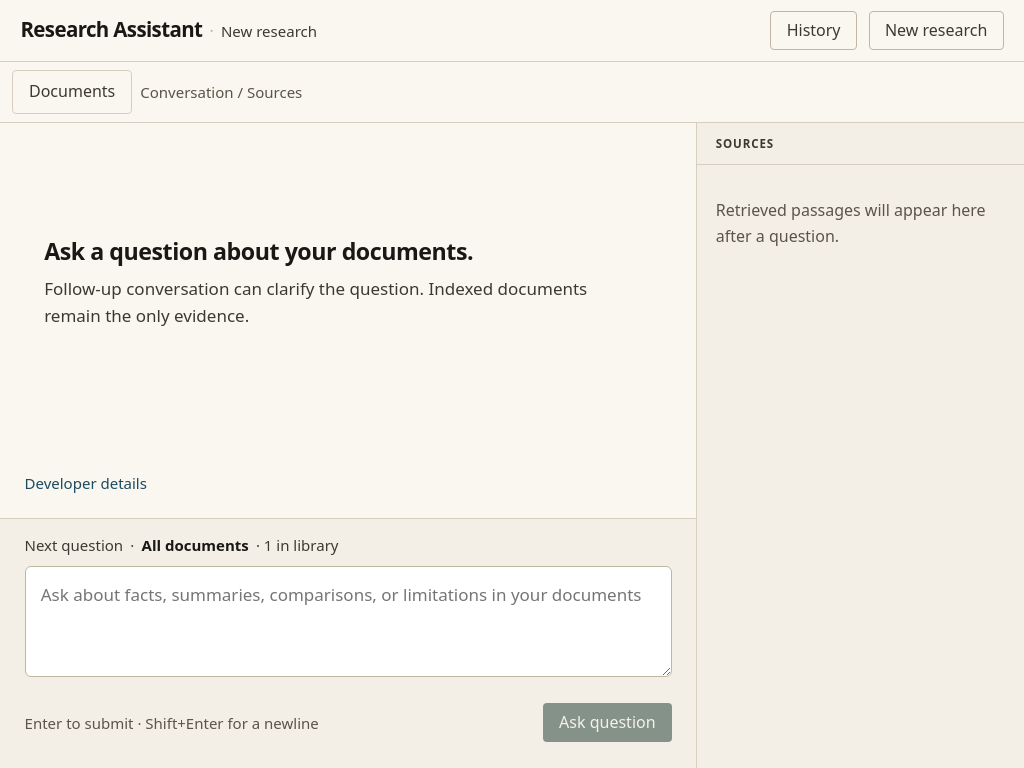
Test case: App › keeps developer details collapsed until requested
This screenshot has width=1024, height=768.
Expected: the field labelled "Retrieval mode" is not shown
Click the button "Developer details" at (86, 483), box 25,471 -> 147,495
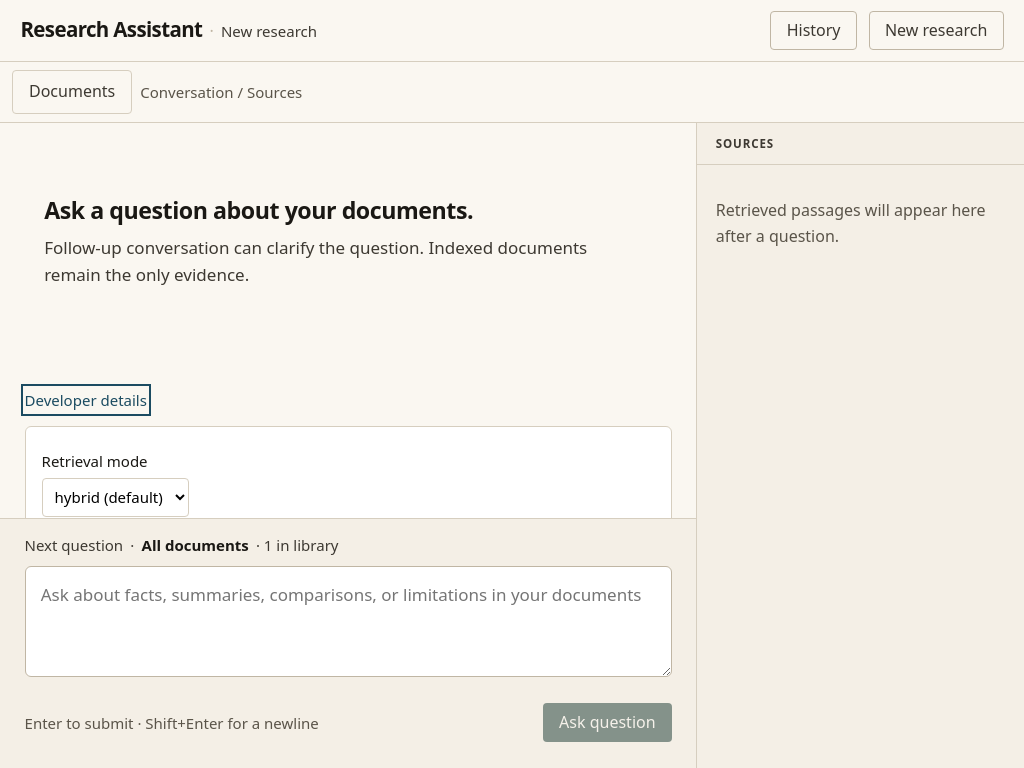
Expected: the dropdown labelled "Retrieval mode" is shown, 42,478 -> 189,516
Type "What is attention?" into the text box named "Research question" at (348, 622), box 25,566 -> 672,677
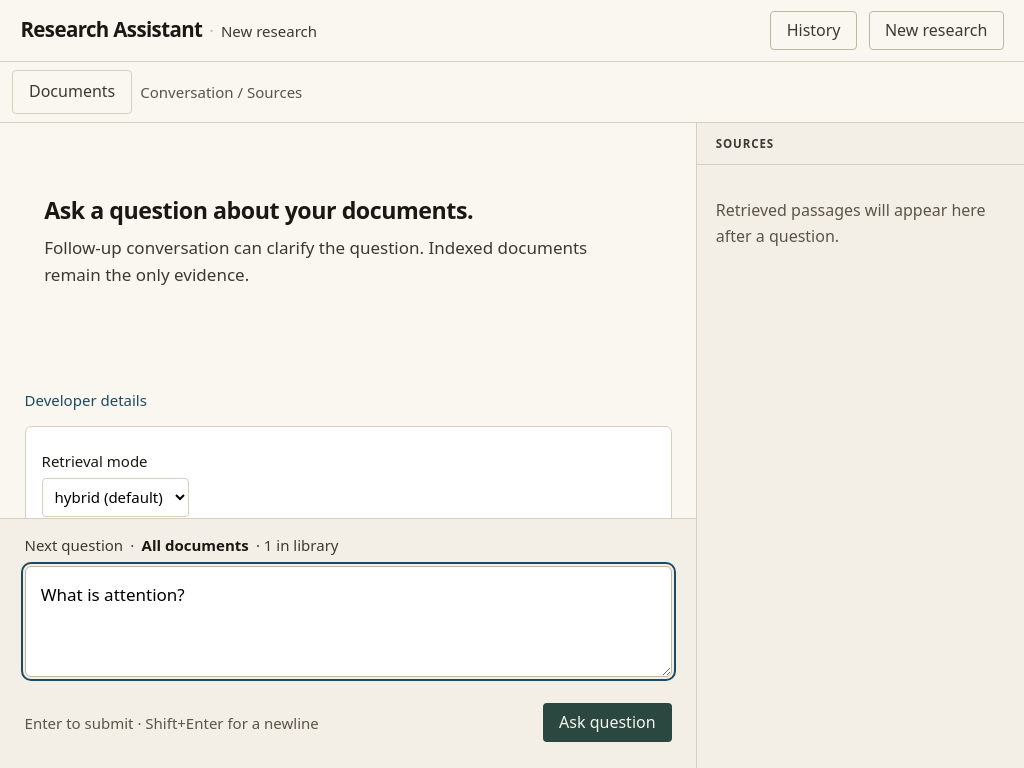
Click the button "Ask question" at (607, 723), box 543,703 -> 672,742
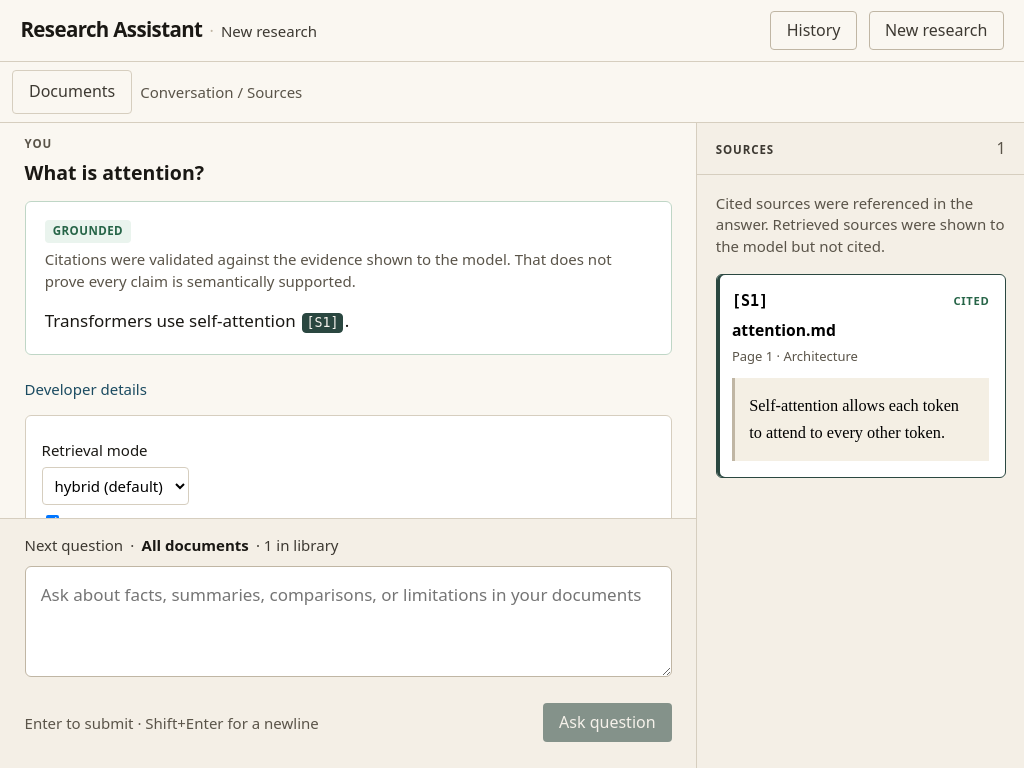
Expected: the text "Grounded" is shown, 45,220 -> 131,243
